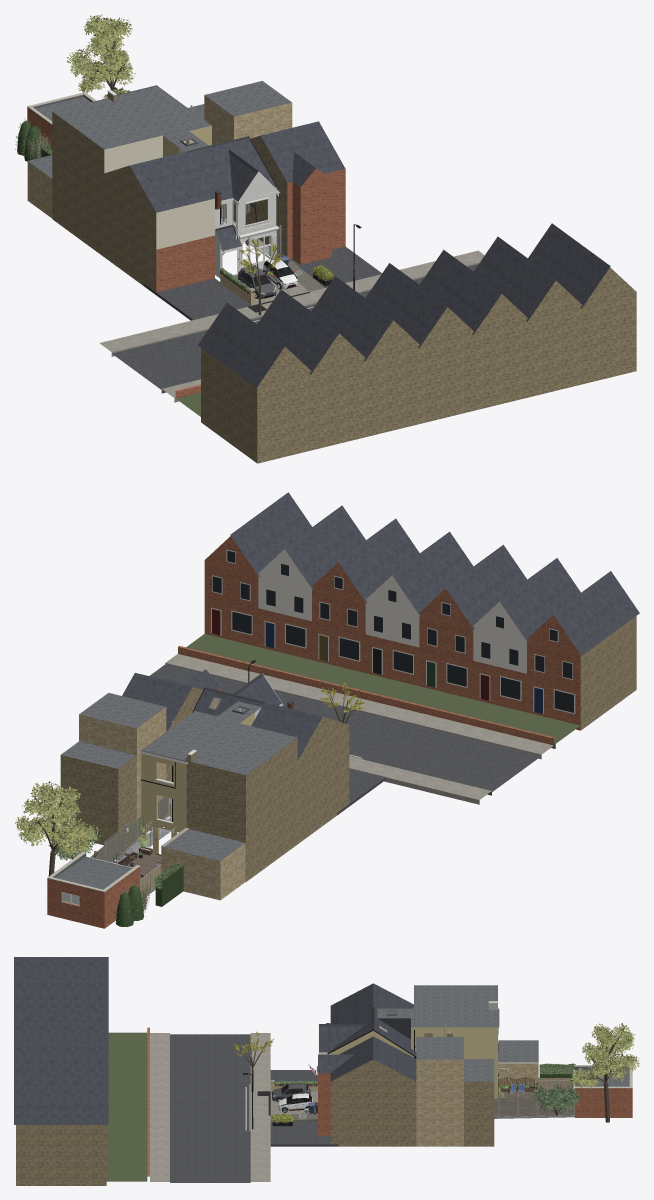
3 renders of one model, top to bottom at view 1: azimuth 30°, elevation 25°; view 2: azimuth 150°, elevation 25°; view 3: azimuth 270°, elevation 25°, orthographic. The views are drawn at different scales.
Parts seen in each view (by area): view 1: neighbours.opposite, neighbours.west, neighbours.east, garden.backdrop.tree, roof.rear_flat, roof.main_front, neighbours.west.yard, neighbours.east.yard, facade.front_A.trim, neighbours.west_neighbour_wall, facade.front_A, garden.backdrop (+4 smaller); view 2: neighbours.opposite, neighbours.west, neighbours.east, neighbours.west_neighbour_wall, garden.backdrop.tree, facade.rear_R, front.road, shed.walls, roof.rear_flat, garden.backdrop, shed.roof, garden.east_fence (+4 smaller); view 3: neighbours.opposite, neighbours.east, front.road, neighbours.west, garden.backdrop.tree, neighbours.west_neighbour_wall, roof.rear_flat, facade.flank_F, shed.walls, neighbours.east.yard, garden.east_fence, garden.backdrop.evergreen (+14 smaller).
Part boxes in pixels (left/top/right/bottom): neighbours.opposite: left=99, top=223, right=636, bottom=463; neighbours.west: left=52, top=98, right=214, bottom=292; neighbours.east: left=185, top=81, right=345, bottom=264; garden.backdrop.tree: left=67, top=14, right=135, bottom=99; roof.rear_flat: left=117, top=86, right=211, bottom=136; roof.main_front: left=189, top=138, right=276, bottom=203; neighbours.west.yard: left=143, top=278, right=250, bottom=320; neighbours.east.yard: left=290, top=246, right=381, bottom=287; facade.front_A.trim: left=215, top=171, right=279, bottom=271; neighbours.west_neighbour_wall: left=27, top=155, right=52, bottom=218; facade.front_A: left=220, top=176, right=275, bottom=275; garden.backdrop: left=17, top=31, right=127, bottom=161; neighbours.opposite: left=149, top=492, right=639, bottom=804; neighbours.west: left=187, top=702, right=349, bottom=881; neighbours.east: left=60, top=669, right=221, bottom=845; neighbours.west_neighbour_wall: left=161, top=827, right=245, bottom=900; garden.backdrop.tree: left=15, top=781, right=98, bottom=857; facade.rear_R: left=141, top=753, right=187, bottom=854; front.road: left=282, top=695, right=412, bottom=759; shed.walls: left=47, top=871, right=139, bottom=928; roof.rear_flat: left=141, top=711, right=240, bottom=764; garden.backdrop: left=23, top=795, right=183, bottom=926; shed.roof: left=55, top=857, right=131, bottom=889; garden.east_fence: left=90, top=797, right=168, bottom=862; neighbours.opposite: left=14, top=957, right=270, bottom=1185; neighbours.east: left=318, top=1036, right=494, bottom=1146; front.road: left=170, top=1085, right=248, bottom=1131; neighbours.west: left=330, top=983, right=497, bottom=1036; garden.backdrop.tree: left=569, top=1023, right=639, bottom=1088; neighbours.west_neighbour_wall: left=498, top=1040, right=538, bottom=1090; roof.rear_flat: left=411, top=1008, right=498, bottom=1029; facade.flank_F: left=414, top=1027, right=497, bottom=1098; shed.walls: left=575, top=1092, right=632, bottom=1117; neighbours.east.yard: left=270, top=1121, right=338, bottom=1146; garden.east_fence: left=494, top=1097, right=574, bottom=1116; garden.backdrop.evergreen: left=533, top=1084, right=580, bottom=1114.
Size of the model in its own units: 35.4 by 10.68 by 62.18.
Materials: 384 (45 with a texture image).
